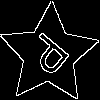P: (24, 29, 79, 85)
